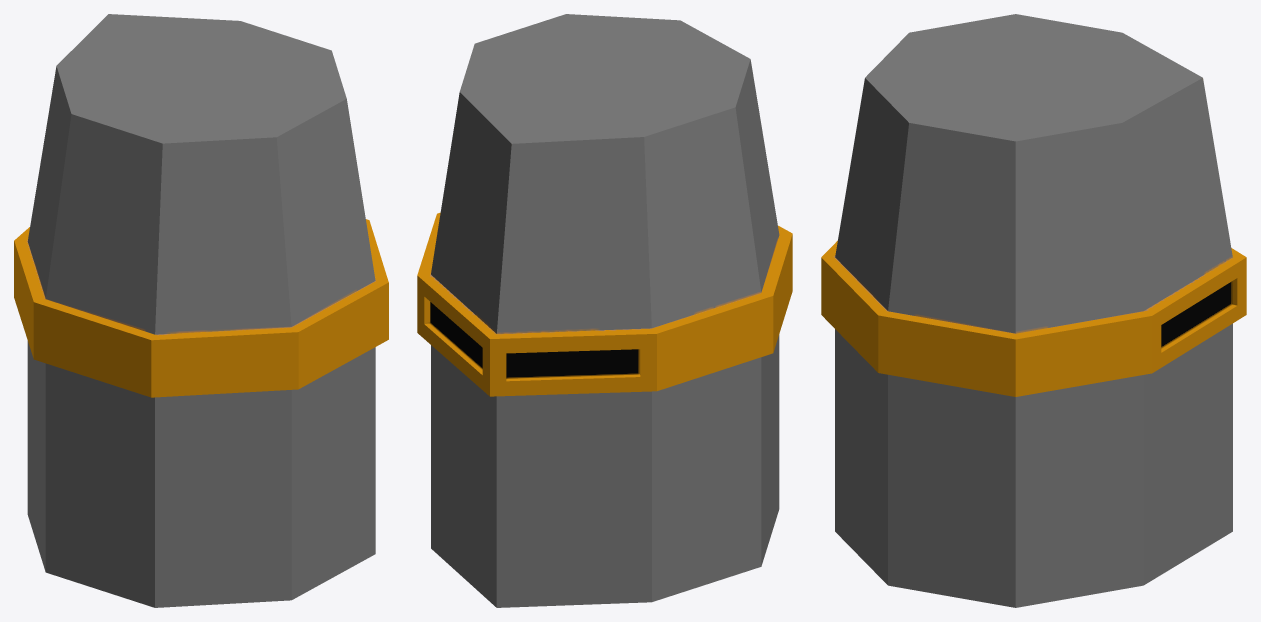
The model's file is Helm.fbx.
The picture shows the model from 3 angles, left to right: view 1: azimuth 30°, elevation 25°; view 2: azimuth 150°, elevation 25°; view 3: azimuth 270°, elevation 25°; orthographic projection.
Visible parts, largest first — view 1: Helm; view 2: Helm; view 3: Helm.
Part boxes in pixels (x1=…): Helm: x1=14, y1=14, x2=388, y2=607; Helm: x1=417, y1=14, x2=792, y2=607; Helm: x1=821, y1=14, x2=1246, y2=607.
Size of the model in its own units: 21.53 by 27.71 by 23.54.
Materials: 3 (3 with a texture image).
